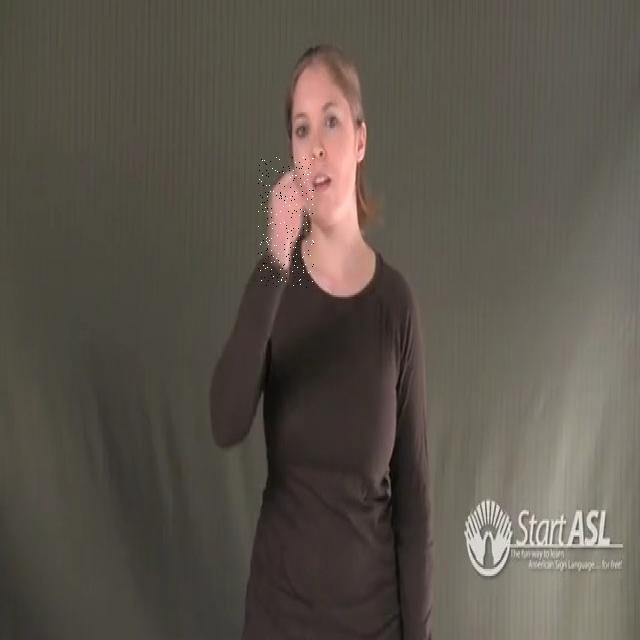icecream: (258, 157, 314, 288)
